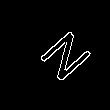N_SW: (25, 24, 89, 88)
